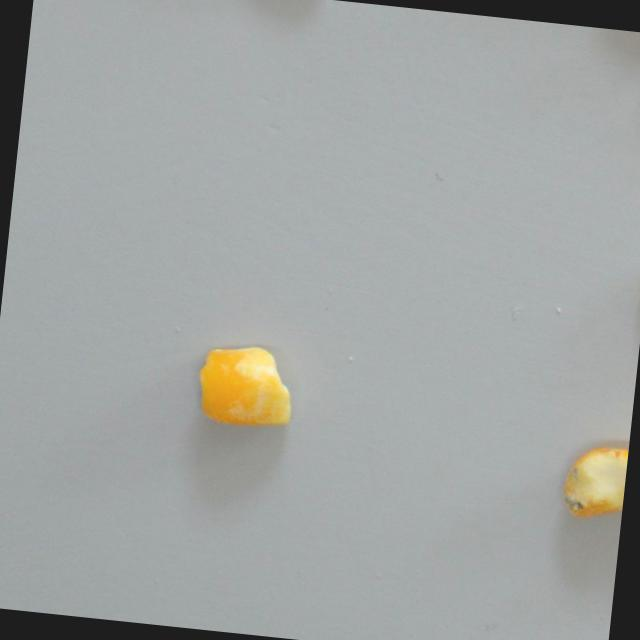dañado: (558, 440, 628, 525)
pelicula: (193, 341, 298, 434)
